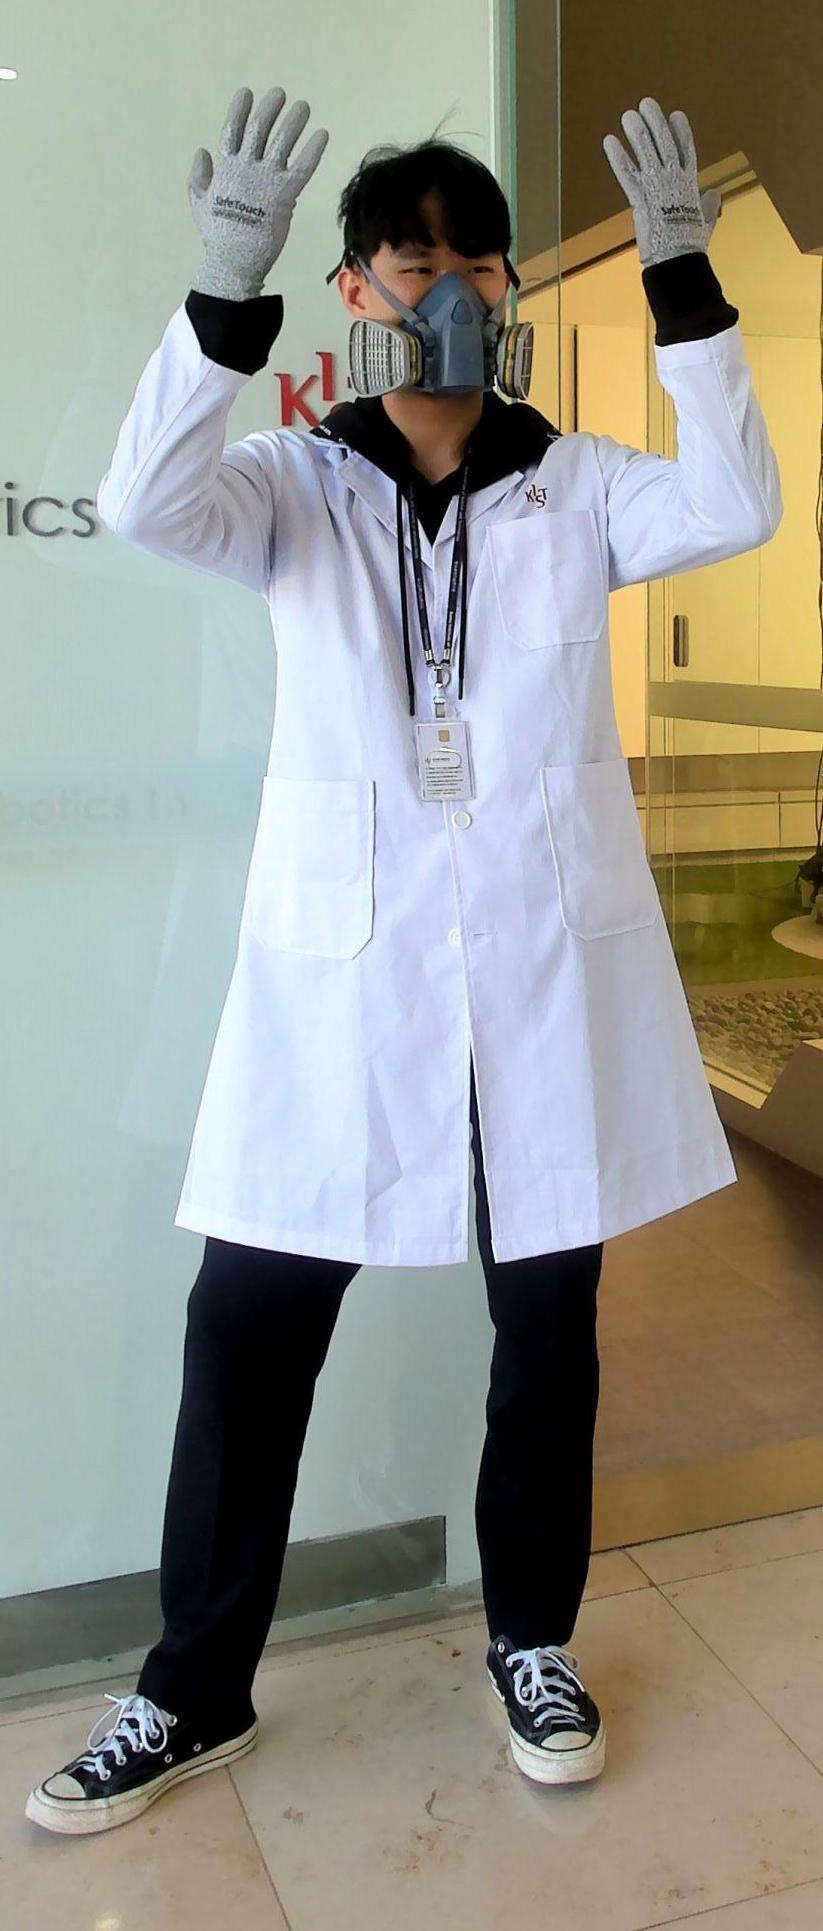lab_coat: (185, 410, 703, 1236)
